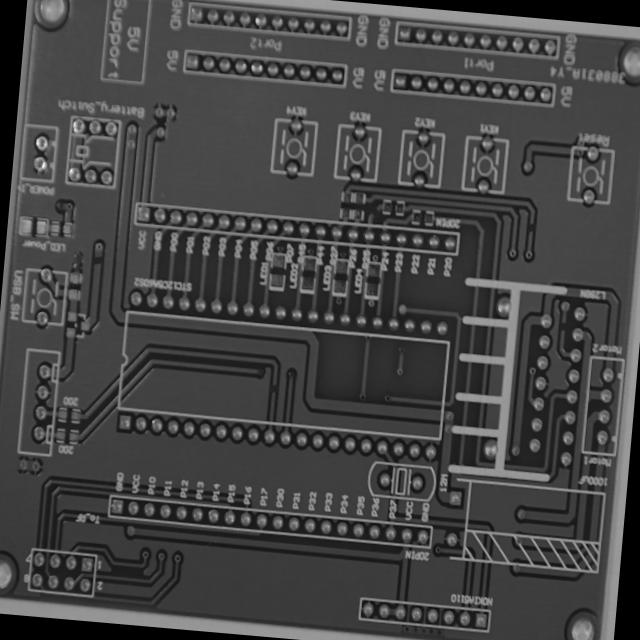open_circuit: (92, 252, 104, 268), (367, 204, 380, 218), (558, 317, 568, 334), (526, 220, 535, 236), (270, 380, 278, 396)
